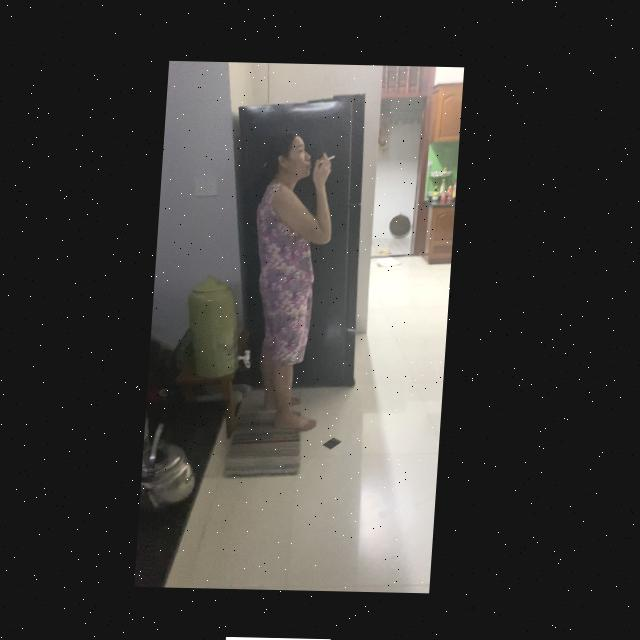cigarette: (316, 154, 336, 164)
